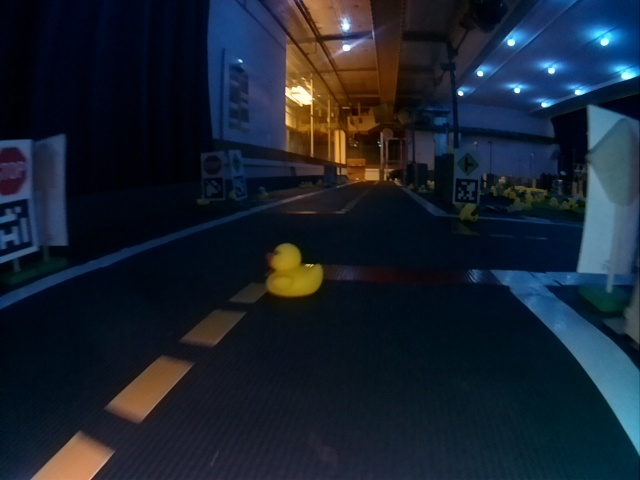Duckie: (266, 244, 323, 297), (258, 186, 268, 197)
Intersection sign: (455, 152, 479, 177)
QR code: (4, 205, 35, 257), (454, 179, 477, 205), (203, 178, 224, 198), (233, 176, 247, 198)
Stop sign: (1, 146, 29, 194), (203, 154, 220, 175)
